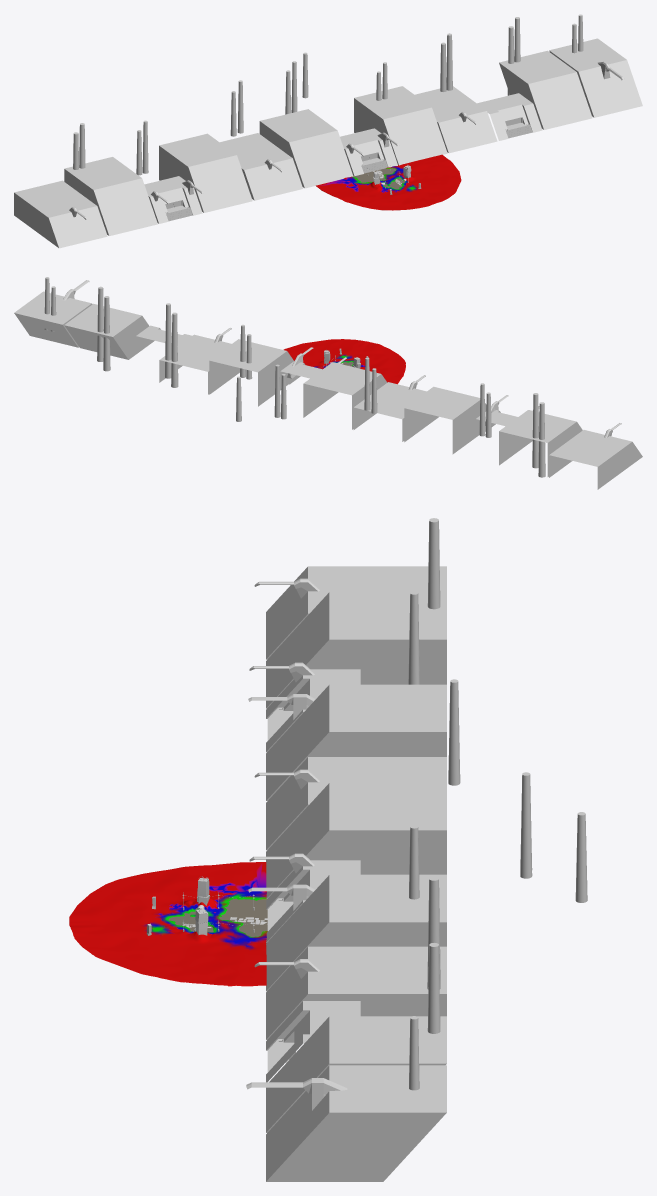
Rendered from Neon_Test_01.fbx.
3 renders of one model, top to bottom at view 1: azimuth 30°, elevation 25°; view 2: azimuth 150°, elevation 25°; view 3: azimuth 270°, elevation 25°, orthographic. The views are drawn at different scales.
Visible parts, largest first — view 1: pCube294, Landscape_01_Low2:Group52283, pCube285, pCube260, pCube84, pCube303, pCube305, pCube259, pCube290, pCube293, pCube254, pCube296 (+3 smaller); view 2: pCube294, pCube305, pCube260, Landscape_01_Low2:Group52283, pCube285, pCube84, pCube259, pCube303, pCube290, pCube293, pCylinder53, pCylinder45 (+7 smaller); view 3: Landscape_01_Low2:Group52283, pCube259, pCube84, pCube303, pCube294, pCube285, pCube293, pCube260, pCube290, pCube305, pCube254, pCube296 (+10 smaller).
Boxes of the visible parts, x1,y1,x2,y2 form: pCube294: [159, 133, 252, 212]; Landscape_01_Low2:Group52283: [316, 154, 461, 210]; pCube285: [354, 86, 447, 165]; pCube260: [499, 50, 592, 129]; pCube84: [259, 109, 353, 188]; pCube303: [64, 157, 157, 235]; pCube305: [14, 180, 107, 248]; pCube259: [549, 38, 642, 117]; pCube290: [220, 133, 303, 200]; pCube293: [415, 86, 497, 153]; pCube254: [477, 93, 542, 140]; pCube296: [144, 176, 202, 223]; pCube294: [404, 386, 486, 454]; pCube305: [549, 430, 642, 489]; pCube260: [64, 303, 154, 359]; Landscape_01_Low2:Group52283: [283, 339, 405, 384]; pCube285: [209, 339, 293, 406]; pCube84: [303, 362, 387, 429]; pCube259: [14, 291, 92, 347]; pCube303: [499, 410, 582, 476]; pCube290: [353, 382, 426, 441]; pCube293: [159, 334, 231, 394]; pCylinder53: [538, 402, 545, 477]; pCylinder45: [171, 312, 178, 387]; Landscape_01_Low2:Group52283: [69, 862, 267, 986]; pCube259: [266, 1065, 446, 1181]; pCube84: [266, 783, 446, 898]; pCube303: [266, 592, 446, 708]; pCube294: [266, 684, 446, 800]; pCube285: [266, 874, 446, 991]; pCube293: [266, 946, 446, 1039]; pCube260: [266, 1016, 446, 1132]; pCube290: [266, 757, 446, 850]; pCube305: [266, 566, 446, 659]; pCube254: [266, 1001, 360, 1082]; pCube296: [266, 669, 360, 752].
Bounding box in the file's own units: 662 × 87.24 × 254.
